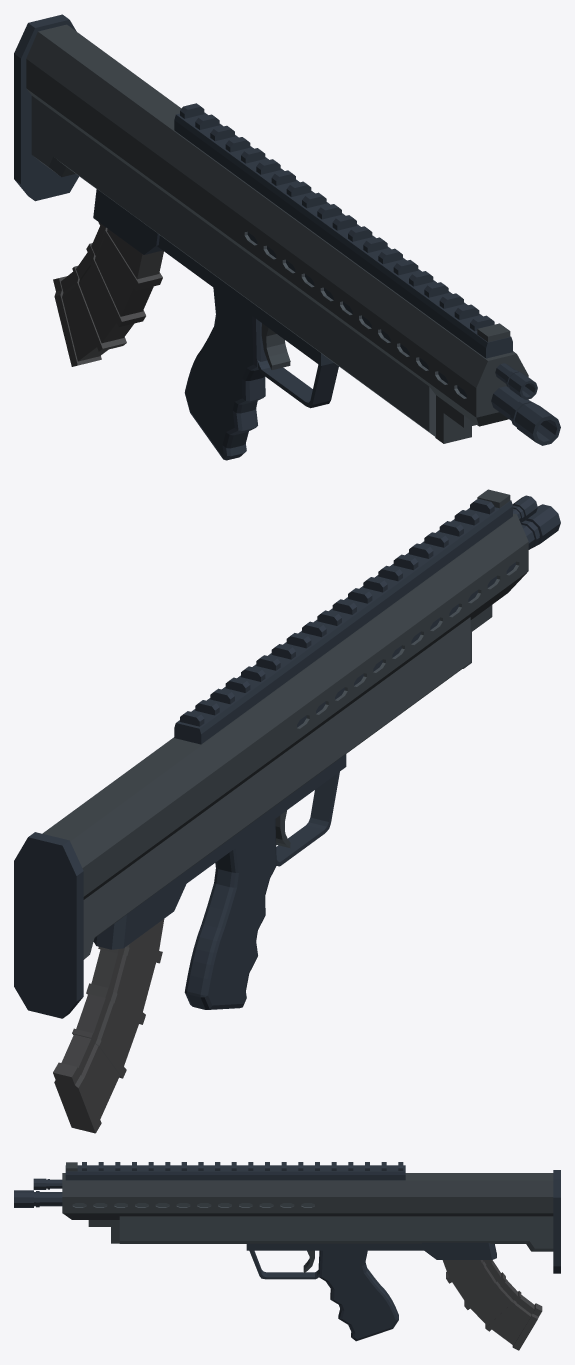
Rendered from bullpup_3.glb.
3 views of the same model, one above another, from view 1: azimuth 30°, elevation 25°; view 2: azimuth 150°, elevation 25°; view 3: azimuth 270°, elevation 25° (orthographic). The views are drawn at different scales.
Visible parts, largest first — view 1: bullpup_3; view 2: bullpup_3; view 3: bullpup_3.
Boxes of the visible parts, x1,y1,x2,y2 form: bullpup_3: (14, 14, 560, 460); bullpup_3: (14, 489, 560, 1133); bullpup_3: (14, 1162, 560, 1350).
Bounding box in the file's own units: 0.0449 × 0.2311 × 0.6235.
